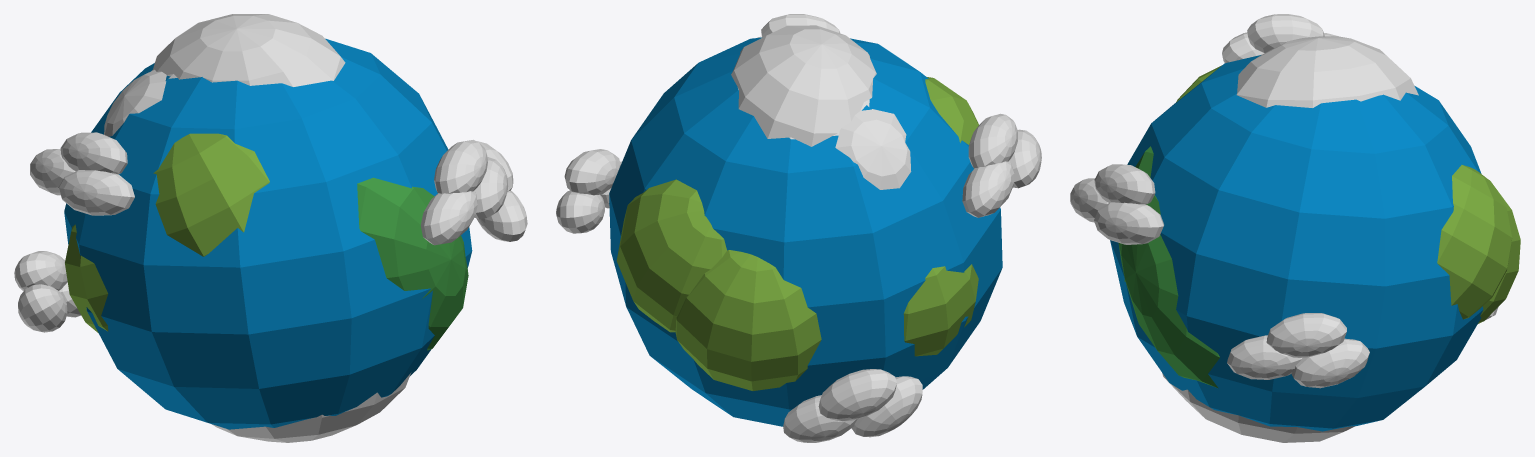
File: Earth.glb
3 renders of one model, left to right at view 1: azimuth 30°, elevation 25°; view 2: azimuth 150°, elevation 25°; view 3: azimuth 270°, elevation 25°, orthographic. The views are drawn at different scales.
Parts seen in each view (by area): view 1: node_MeshObject-1979072512-PolyPaper12; view 2: node_MeshObject-1979072512-PolyPaper12; view 3: node_MeshObject-1979072512-PolyPaper12.
Boxes of the visible parts, x1=… form: node_MeshObject-1979072512-PolyPaper12: x1=14, y1=14, x2=527, y2=442; node_MeshObject-1979072512-PolyPaper12: x1=556, y1=14, x2=1041, y2=442; node_MeshObject-1979072512-PolyPaper12: x1=1070, y1=14, x2=1520, y2=442.
Bounding box in the file's own units: 0.1346 × 0.1112 × 0.1206.
